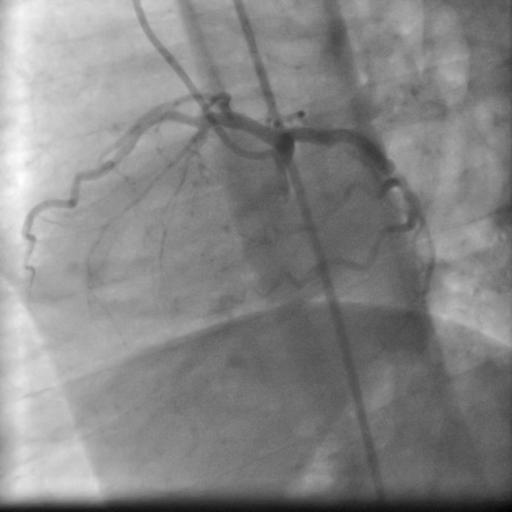Stenosis: (379, 167, 404, 181)
